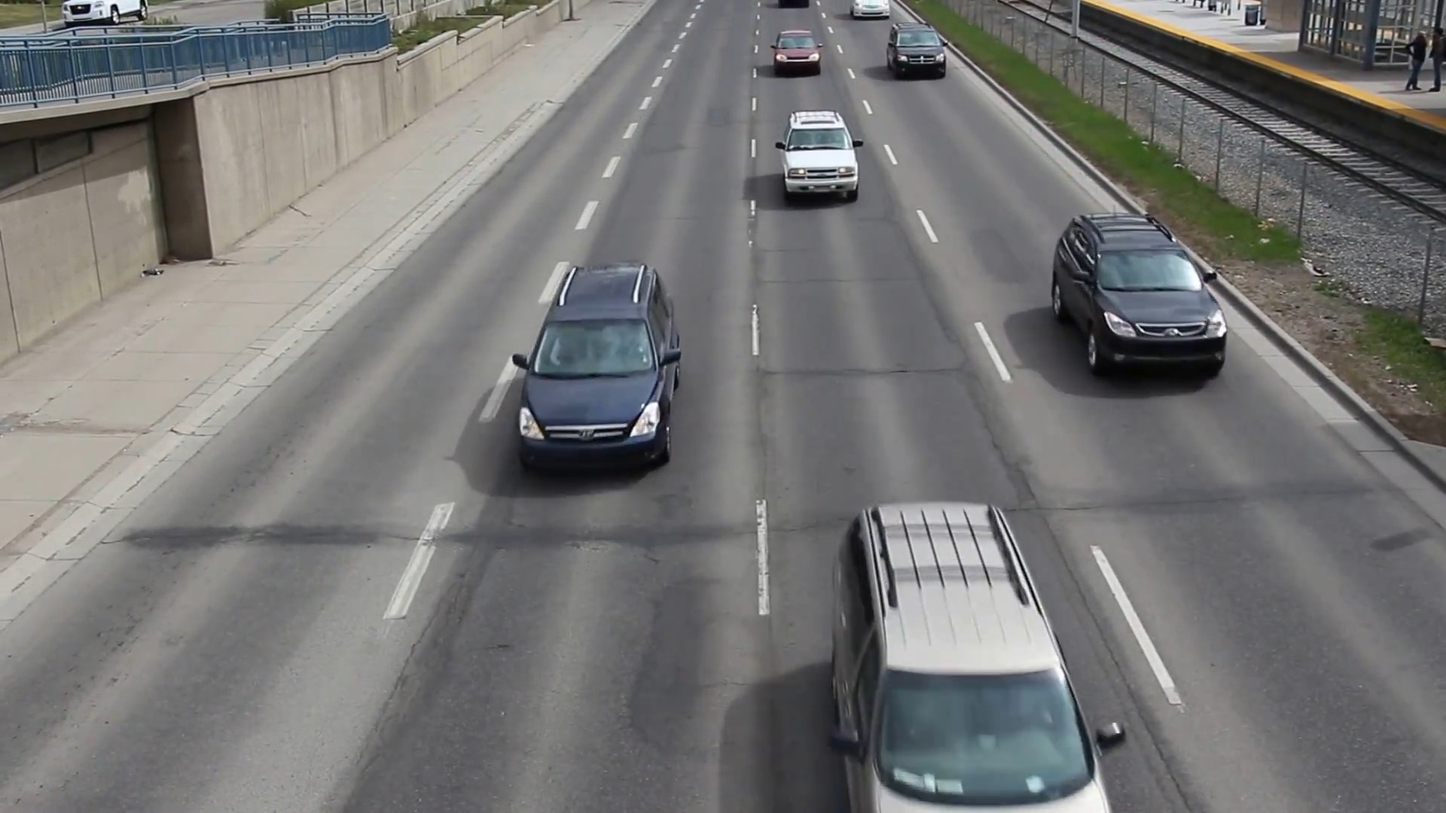car: (509, 258, 674, 473), (1045, 215, 1236, 384), (774, 106, 869, 208)
